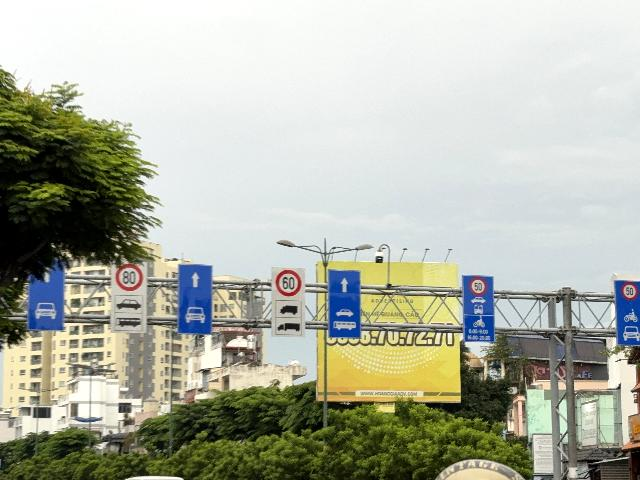toc-do-toi-da-cho-phep: (115, 262, 143, 292), (275, 268, 302, 296), (469, 277, 487, 296), (621, 281, 638, 299)
